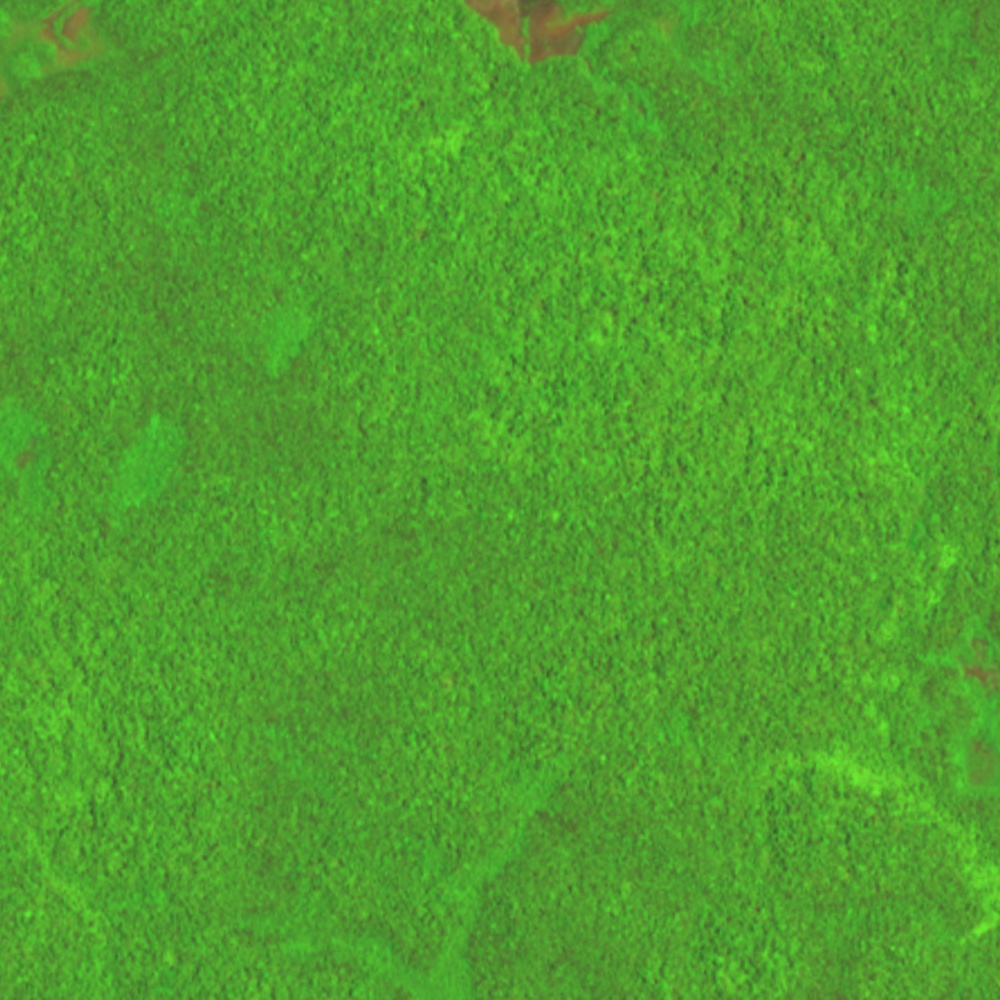legal: (463, 1, 617, 69), (953, 612, 1000, 799), (18, 1, 108, 71)
